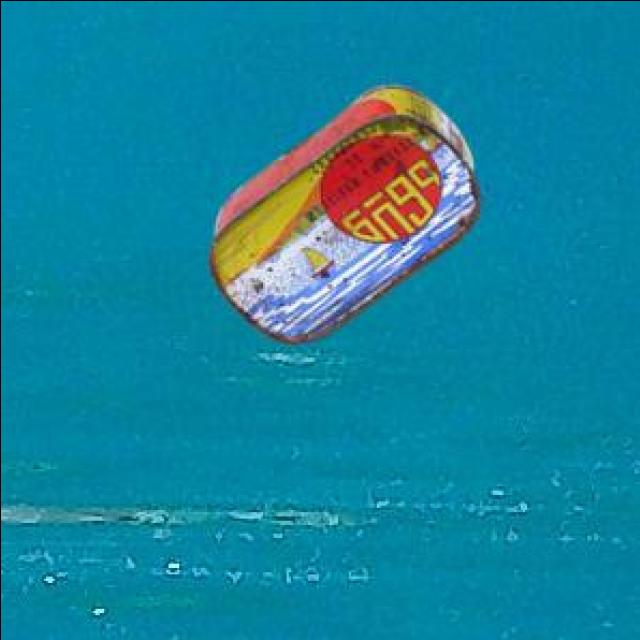logam: (205, 87, 478, 347)
